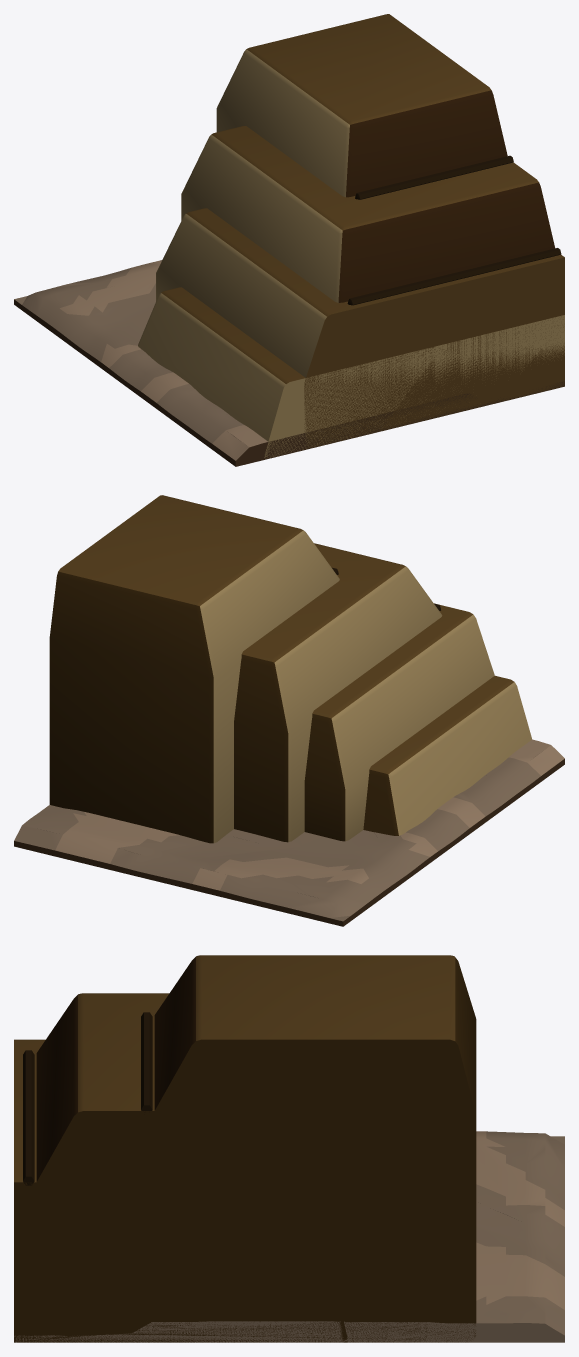
3 renders of one model, top to bottom at view 1: azimuth 30°, elevation 25°; view 2: azimuth 150°, elevation 25°; view 3: azimuth 270°, elevation 25°, orthographic. The views are drawn at different scales.
Parts seen in each view (by area): view 1: pyramid_153_tier1, pyramid_153_tier2, pyramid_153_tier3, pyramid_153_tier0, pyramid_153_sand, pyramid_153_course1, pyramid_153_course2; view 2: pyramid_153_tier3, pyramid_153_sand, pyramid_153_tier2, pyramid_153_tier1, pyramid_153_tier0; view 3: pyramid_153_tier2, pyramid_153_tier3, pyramid_153_tier1, pyramid_153_sand, pyramid_153_tier0, pyramid_153_course1, pyramid_153_course2.
Boxes of the visible parts, bbox=[...] form: pyramid_153_tier1: bbox=[156, 208, 564, 448]; pyramid_153_tier2: bbox=[181, 126, 554, 302]; pyramid_153_tier3: bbox=[216, 14, 507, 197]; pyramid_153_tier0: bbox=[138, 287, 564, 458]; pyramid_153_sand: bbox=[14, 260, 564, 466]; pyramid_153_course1: bbox=[347, 248, 561, 305]; pyramid_153_course2: bbox=[355, 155, 513, 199]; pyramid_153_tier3: bbox=[49, 495, 339, 843]; pyramid_153_sand: bbox=[14, 739, 564, 926]; pyramid_153_tier2: bbox=[234, 543, 442, 842]; pyramid_153_tier1: bbox=[304, 603, 494, 841]; pyramid_153_tier0: bbox=[363, 675, 532, 835]; pyramid_153_tier2: bbox=[33, 993, 427, 1342]; pyramid_153_tier3: bbox=[151, 955, 476, 1342]; pyramid_153_tier1: bbox=[14, 1039, 387, 1342]; pyramid_153_sand: bbox=[14, 1131, 564, 1342]; pyramid_153_tier0: bbox=[14, 1256, 347, 1342]; pyramid_153_course1: bbox=[23, 1050, 34, 1185]; pyramid_153_course2: bbox=[141, 1012, 152, 1112].
Bounding box in the file's own units: 24 × 17 × 28.
